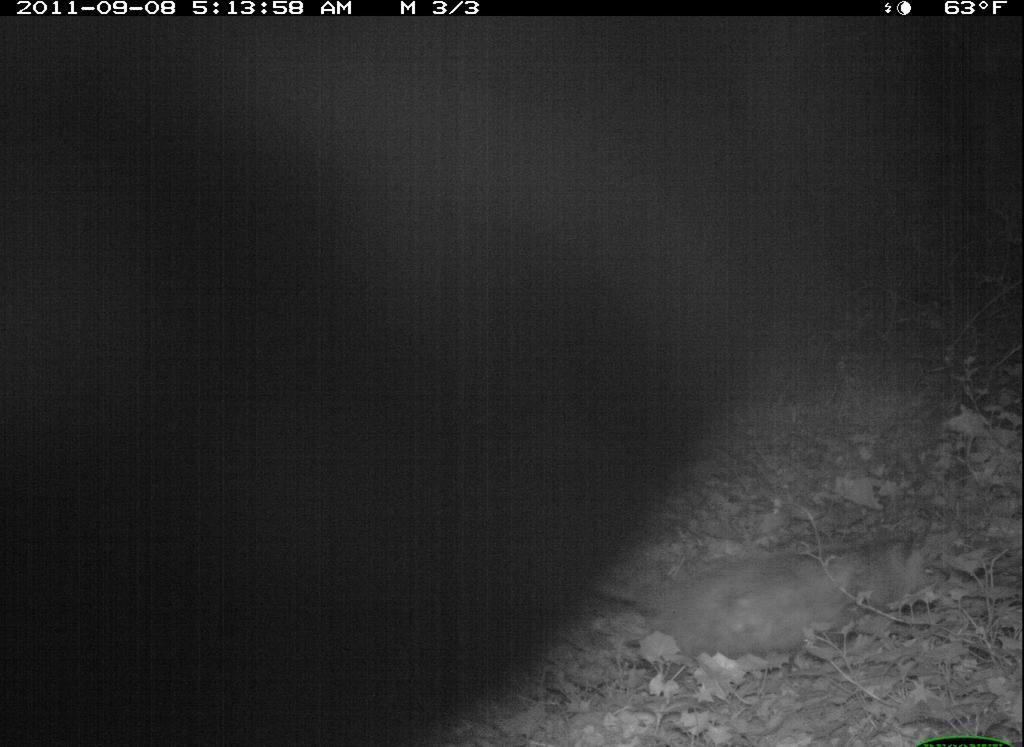opossum: (600, 521, 930, 673)
